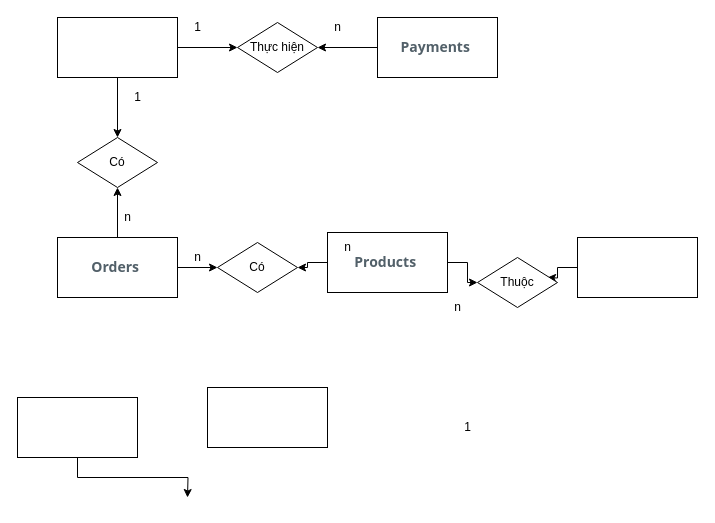
Some shapes in this 715 by 523 pixel diagram are drawn without their labels. The centre of each missing label's shape, as x and y in pixels:
"Customer" belongs at (117,47).
"Employees" belongs at (77,427).
"Offices" belongs at (267,417).
"ProductsLine" belongs at (637,267).
